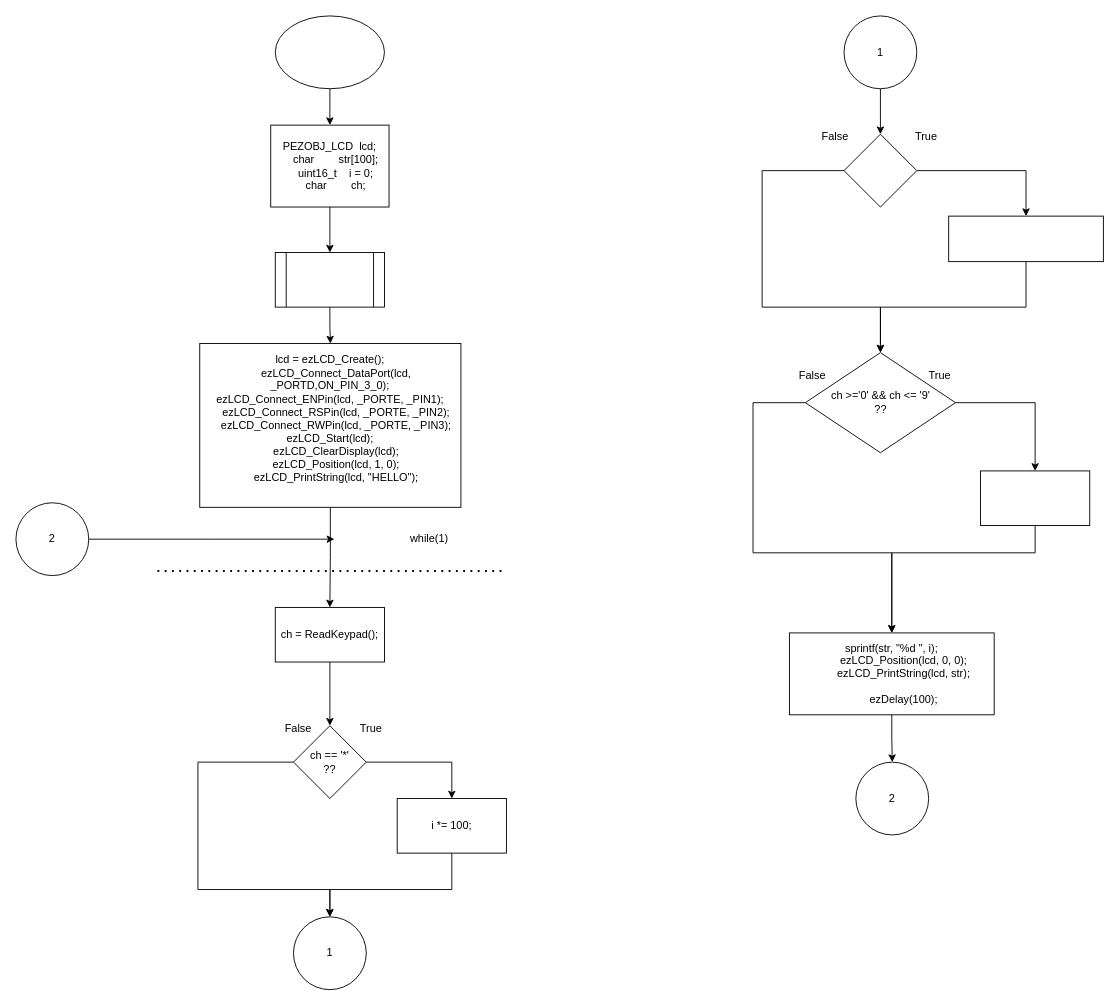
This 1119x1006 diagram has some shape labels left out. The centre of each missing label's shape, as x and y in pixels:
"ch == '#' ??" goes at (x=880, y=170).
"i = 0; ezLCD_ClearDisplay(lcd);" goes at (x=1025, y=238).
"i = i*10 + ch - '0';" goes at (x=1035, y=498).
"Setup_GPIO();" goes at (x=329, y=279).
"START" goes at (x=329, y=52).
